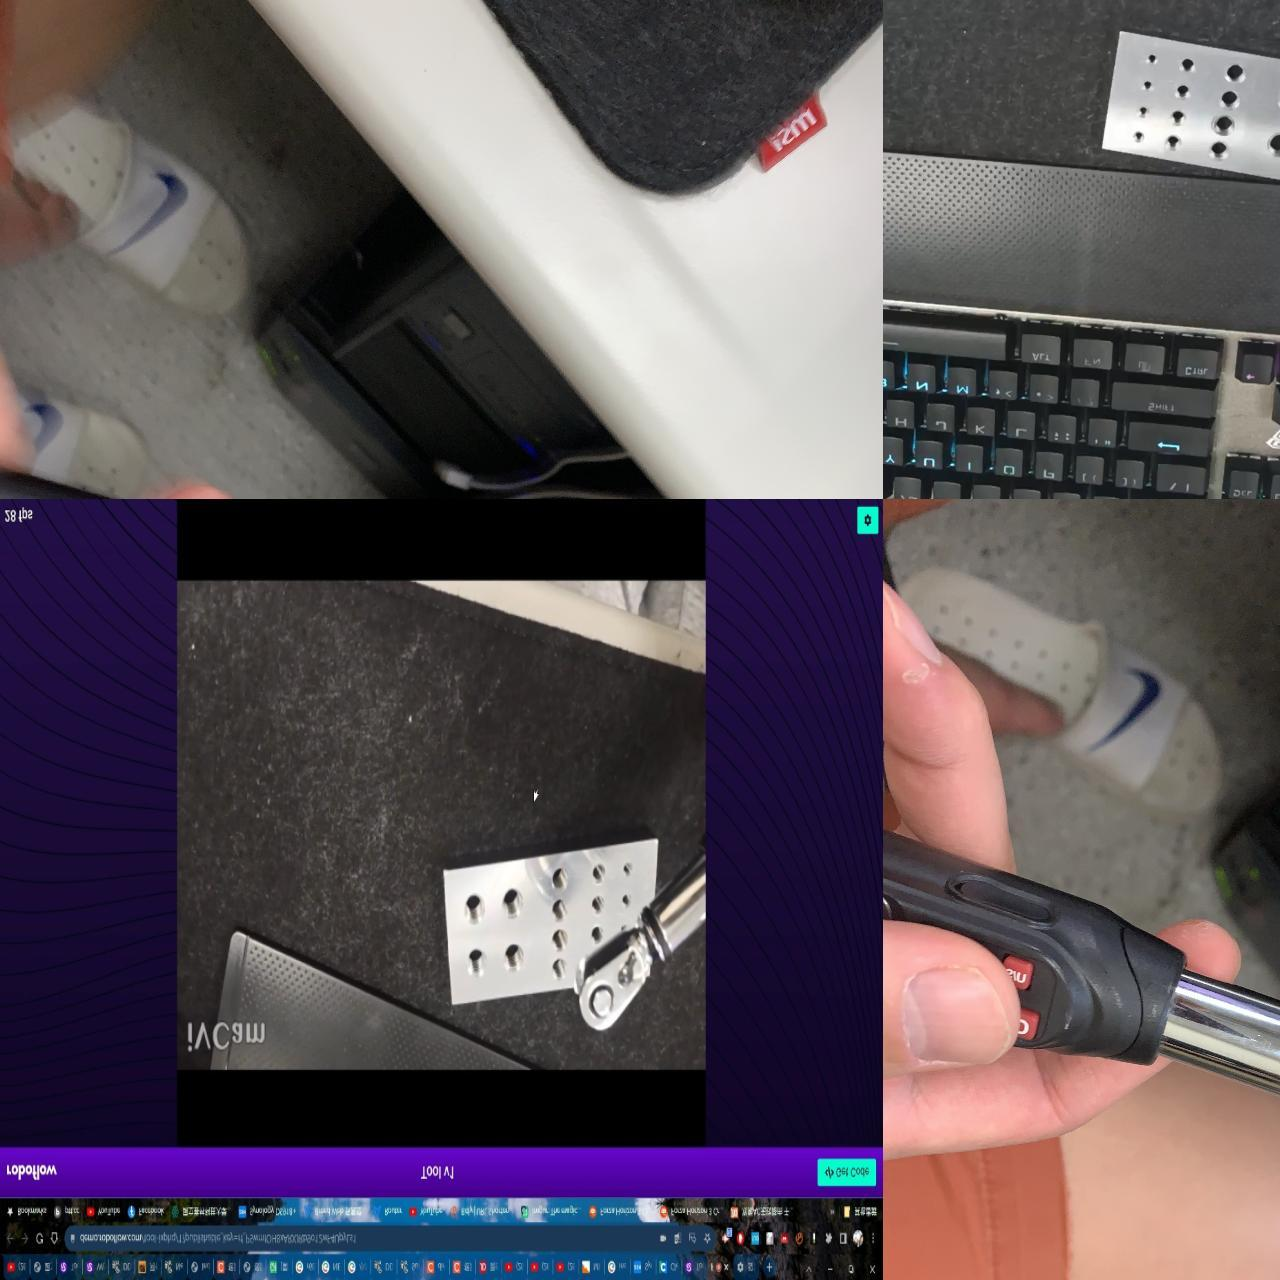Tool: (580, 931, 656, 1030)
hole: (459, 888, 492, 934), (498, 885, 529, 920), (464, 946, 493, 982), (544, 863, 576, 894), (505, 942, 535, 974), (547, 961, 571, 985), (547, 900, 571, 922), (591, 858, 607, 885), (551, 931, 571, 947), (590, 897, 606, 917), (620, 860, 638, 876), (621, 893, 633, 913), (593, 927, 605, 942)
